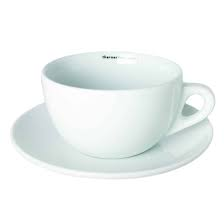cup: (7, 46, 219, 185)
